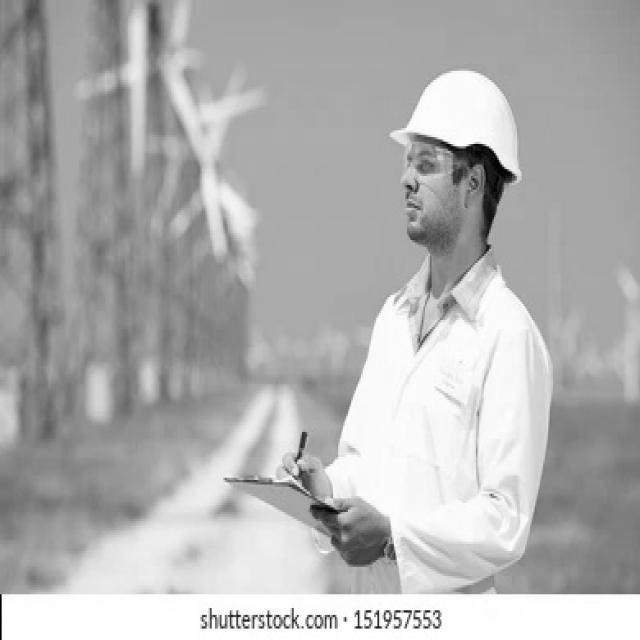construction helmet: (395, 71, 519, 176)
